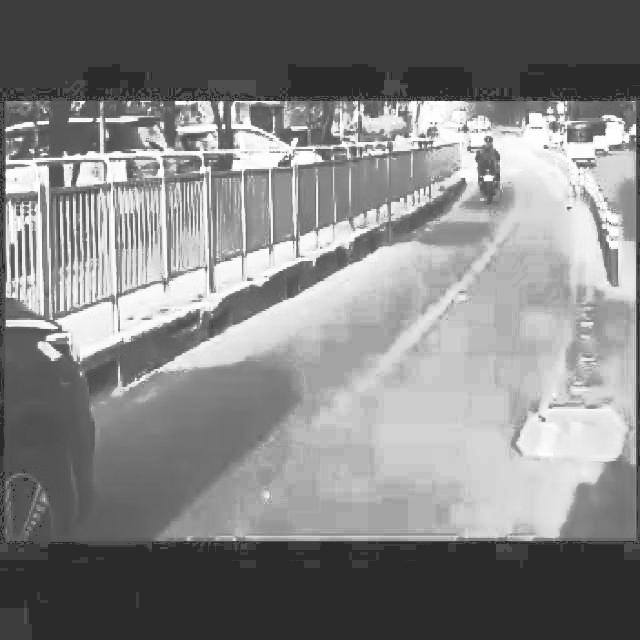Car: (0, 289, 116, 560)
